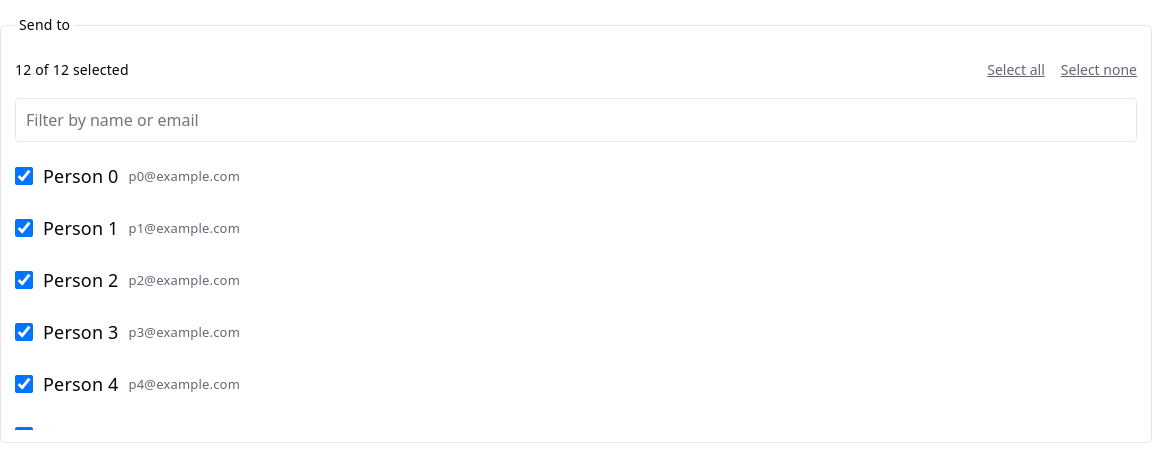
AnnouncementRecipients › only offers a filter box once the list is long, and filters by name or email
The width and height of the screenshot is (1152, 460).
Step 1. Type "p11@" into the search field named "Filter recipients" → (576, 120), box [15,98,1137,142]
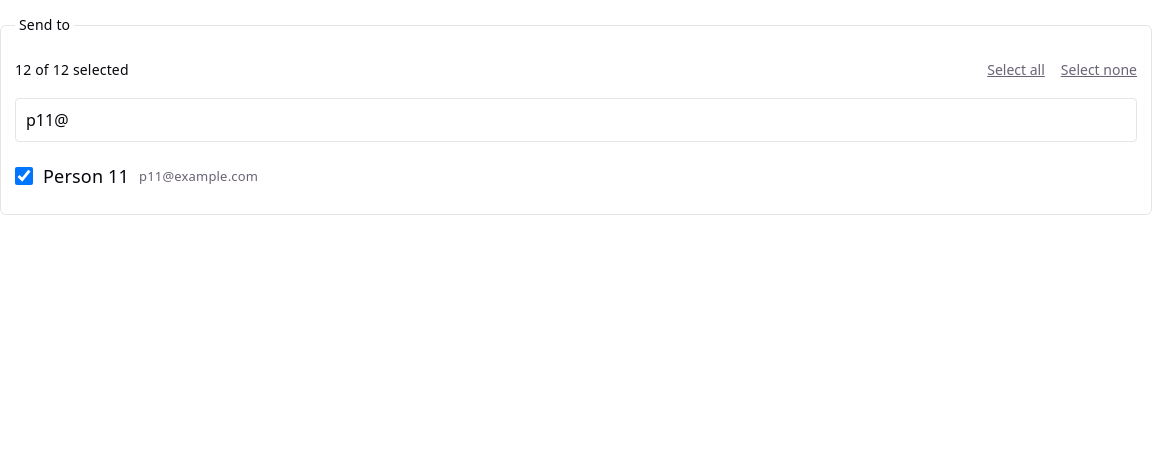
Expected: the message reads "12 of 12 selected", [15,60,129,79]
Now the number of checkboxes is 1, box [15,167,33,185]
Now the text "Person 11" is shown, box [43,163,129,189]
